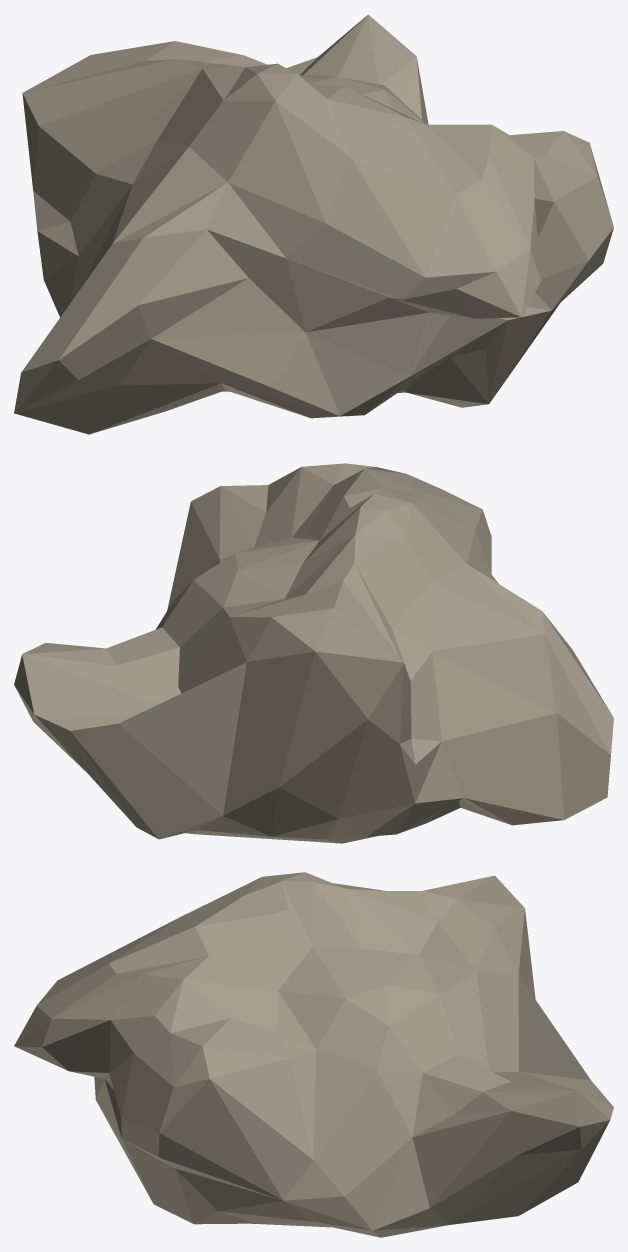
3 views of the same model, one above another, from view 1: azimuth 30°, elevation 25°; view 2: azimuth 150°, elevation 25°; view 3: azimuth 270°, elevation 25° (orthographic). The views are drawn at different scales.
Visible parts, largest first — view 1: Sphere; view 2: Sphere; view 3: Sphere.
Part boxes in pixels (x1=…): Sphere: x1=14, y1=14, x2=613, y2=434; Sphere: x1=14, y1=463, x2=613, y2=843; Sphere: x1=14, y1=872, x2=613, y2=1237.
Size of the model in its own units: 1013 by 615 by 1125.
